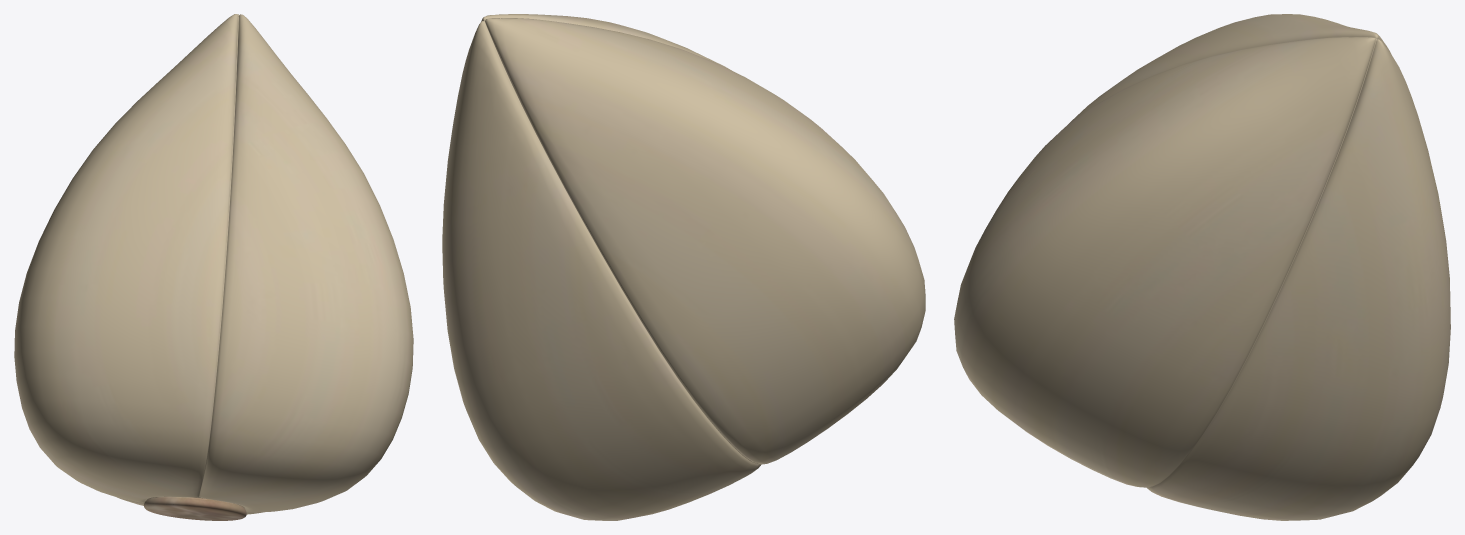
The model's file is GrainBuckwheat037.obj.
The picture shows the model from 3 angles, left to right: view 1: azimuth 30°, elevation 25°; view 2: azimuth 150°, elevation 25°; view 3: azimuth 270°, elevation 25°; orthographic projection. The views are drawn at different scales.
Parts seen in each view (by area): view 1: GrainBuckwheat037; view 2: GrainBuckwheat037; view 3: GrainBuckwheat037.
Boxes of the visible parts, bbox=[...] form: GrainBuckwheat037: bbox=[14, 14, 413, 520]; GrainBuckwheat037: bbox=[442, 14, 925, 520]; GrainBuckwheat037: bbox=[954, 14, 1450, 520].
Size of the model in its own units: 0.0254 by 0.0309 by 0.0267.
1 material, 1 textured.
